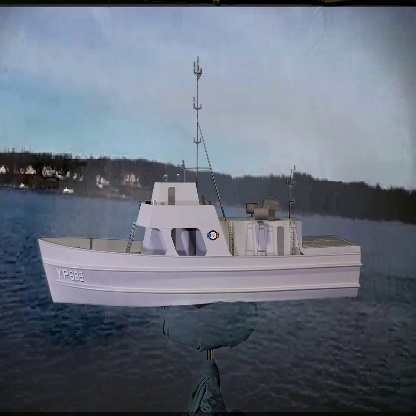YP689: (37, 56, 362, 309)
